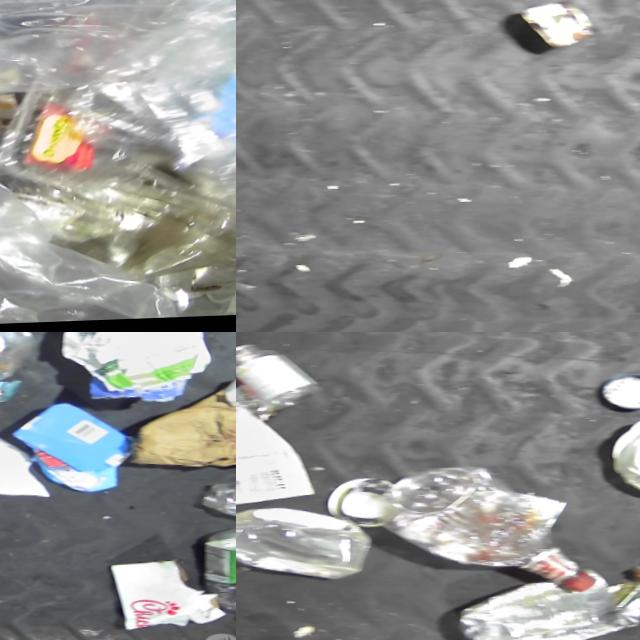can: (455, 559, 640, 640), (327, 476, 402, 534), (518, 0, 600, 53), (236, 380, 283, 451)
milk_jug: (601, 414, 640, 514)
non_white_jug: (9, 401, 142, 500)
plastic_bottle: (379, 460, 620, 604)
